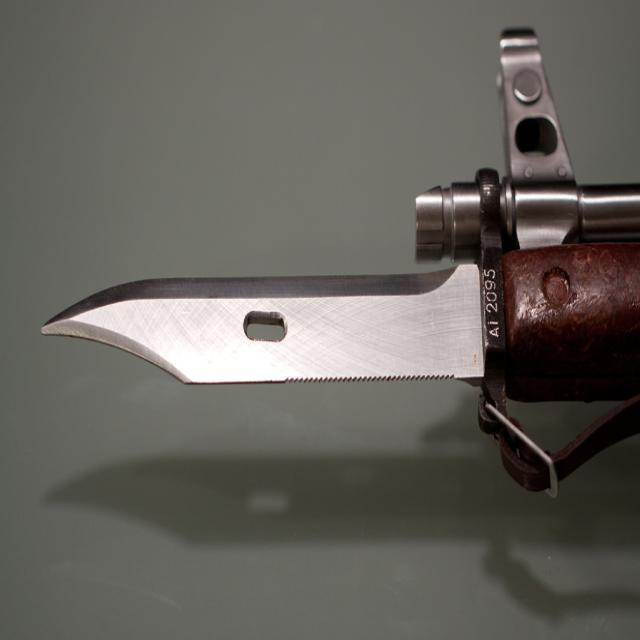Knife: (42, 172, 640, 479)
